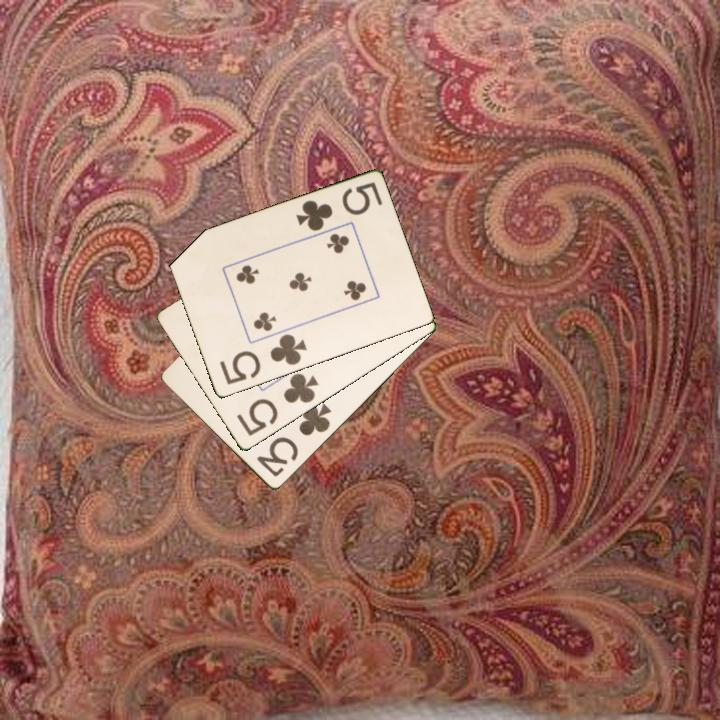3c: (253, 400, 334, 480)
5c: (233, 370, 322, 440), (216, 331, 310, 388), (292, 179, 385, 234)
